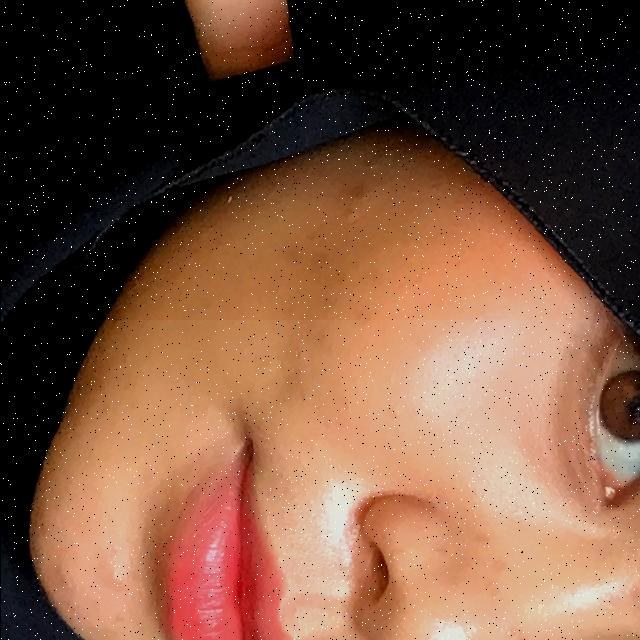mendengar: (0, 0, 640, 320)
